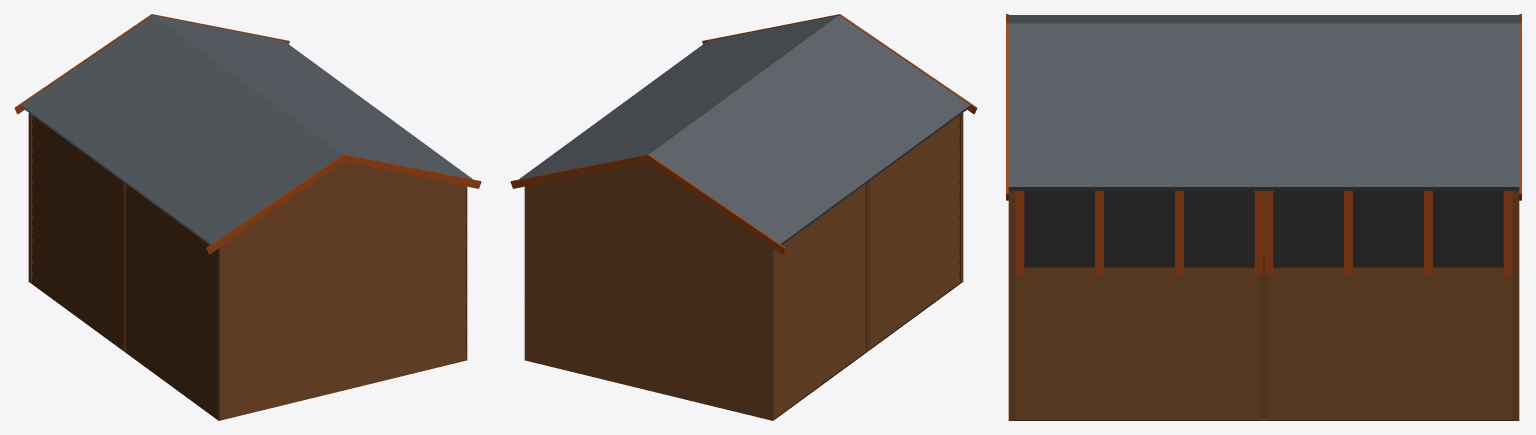
The model's file is GardenShed-FBX.fbx.
3 views of the same model, side by side, from view 1: azimuth 30°, elevation 25°; view 2: azimuth 150°, elevation 25°; view 3: azimuth 270°, elevation 25° (orthographic). The views are drawn at different scales.
Parts seen in each view (by area): view 1: Shed; view 2: Shed; view 3: Shed.
Part boxes in pixels (box(x1,y1,x2,y2)): Shed: box(14, 14, 481, 420); Shed: box(510, 14, 977, 420); Shed: box(1006, 14, 1521, 420).
Size of the model in its own units: 260 by 214 by 316.
